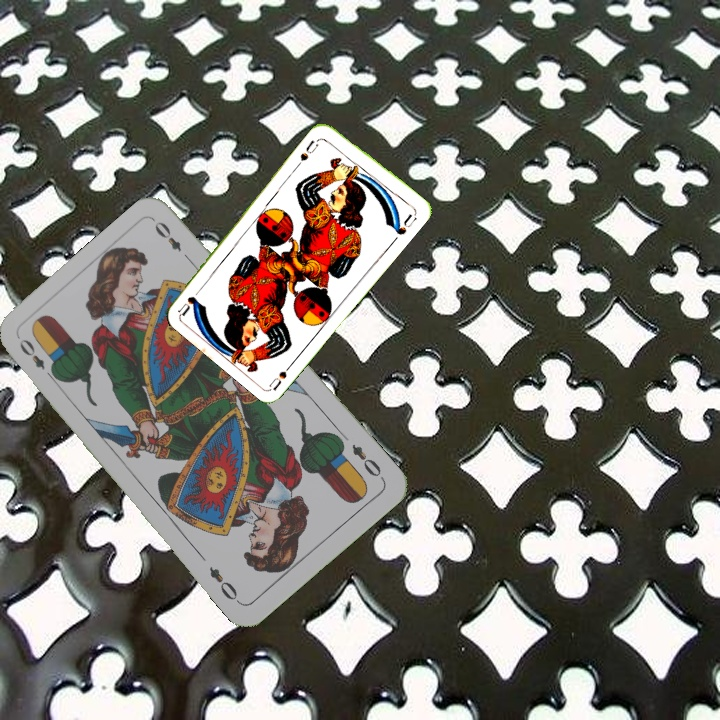EO: (15, 334, 59, 384), (347, 440, 387, 483)
SU: (266, 356, 298, 392), (296, 136, 321, 163)
